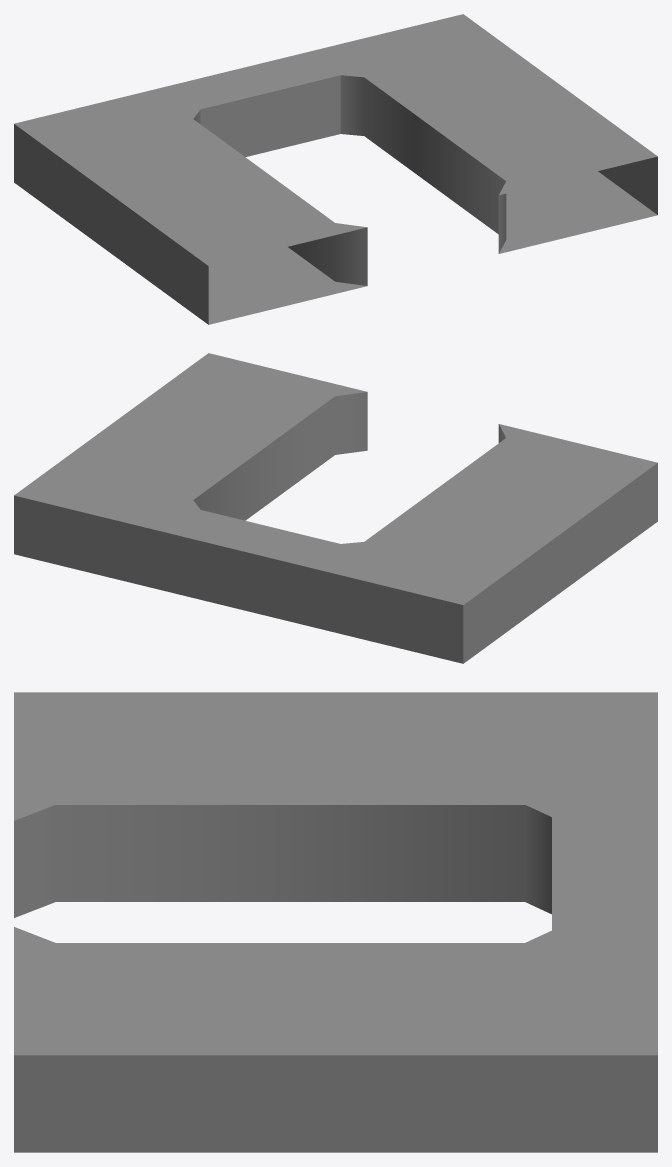
The model's file is Door Small Frame 01.FBX.
The picture shows the model from 3 angles, top to bottom: view 1: azimuth 30°, elevation 25°; view 2: azimuth 150°, elevation 25°; view 3: azimuth 270°, elevation 25°; orthographic projection. The views are drawn at different scales.
Parts seen in each view (by area): view 1: Door Small Frame 01; view 2: Door Small Frame 01; view 3: Door Small Frame 01.
Boxes of the visible parts, bbox=[...] form: Door Small Frame 01: bbox=[14, 14, 657, 324]; Door Small Frame 01: bbox=[14, 353, 657, 663]; Door Small Frame 01: bbox=[14, 692, 657, 1152].
Size of the model in its own units: 400 by 50 by 300.
1 material, 1 textured.
